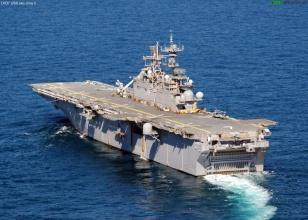warship: (27, 27, 267, 177)
